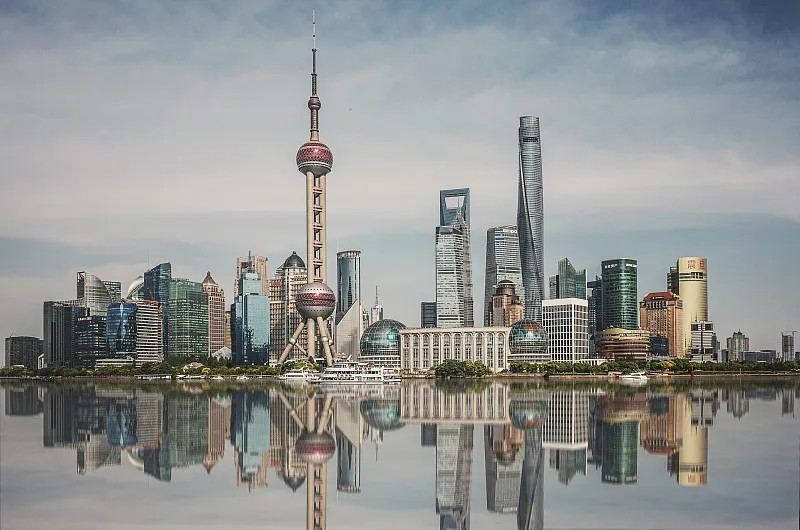Oriental: (278, 11, 336, 365)
